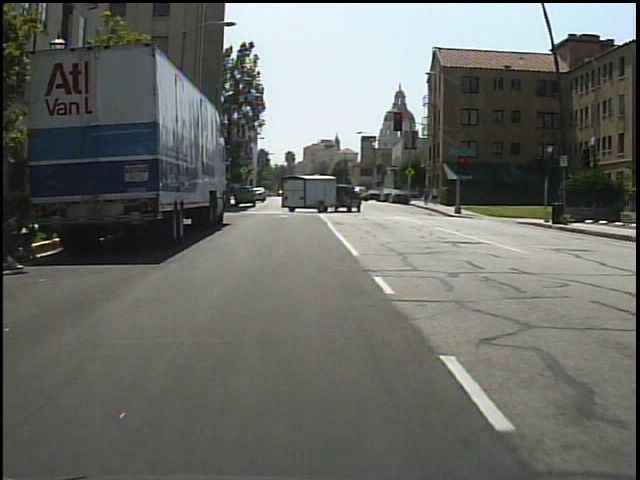person: (430, 184, 442, 210), (422, 185, 432, 208)
